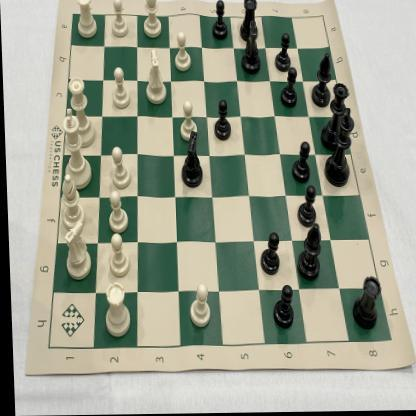black-bishop: (294, 223, 321, 283), (311, 52, 330, 109)
black-king: (322, 108, 355, 187)
black-knight: (177, 130, 204, 190), (240, 19, 261, 76)
black-pawn: (256, 233, 280, 278), (268, 285, 292, 330), (288, 141, 311, 186), (293, 188, 317, 229), (277, 69, 298, 110), (212, 99, 230, 143), (273, 33, 291, 75), (211, 0, 229, 41)
black-queen: (322, 82, 351, 145)
black-rook: (349, 276, 381, 332), (238, 0, 259, 43)
white-bishop: (57, 172, 84, 231), (141, 0, 164, 38)
white-king: (58, 108, 90, 190)
white-knight: (60, 219, 90, 280), (142, 47, 168, 106)
white-pawn: (185, 282, 209, 328), (106, 232, 129, 279), (108, 147, 131, 189), (106, 189, 127, 234), (110, 0, 130, 40), (110, 67, 129, 109), (178, 99, 196, 139), (174, 33, 191, 73)
white-queen: (65, 75, 96, 148)
white-rook: (100, 280, 129, 337), (74, 0, 99, 40)
